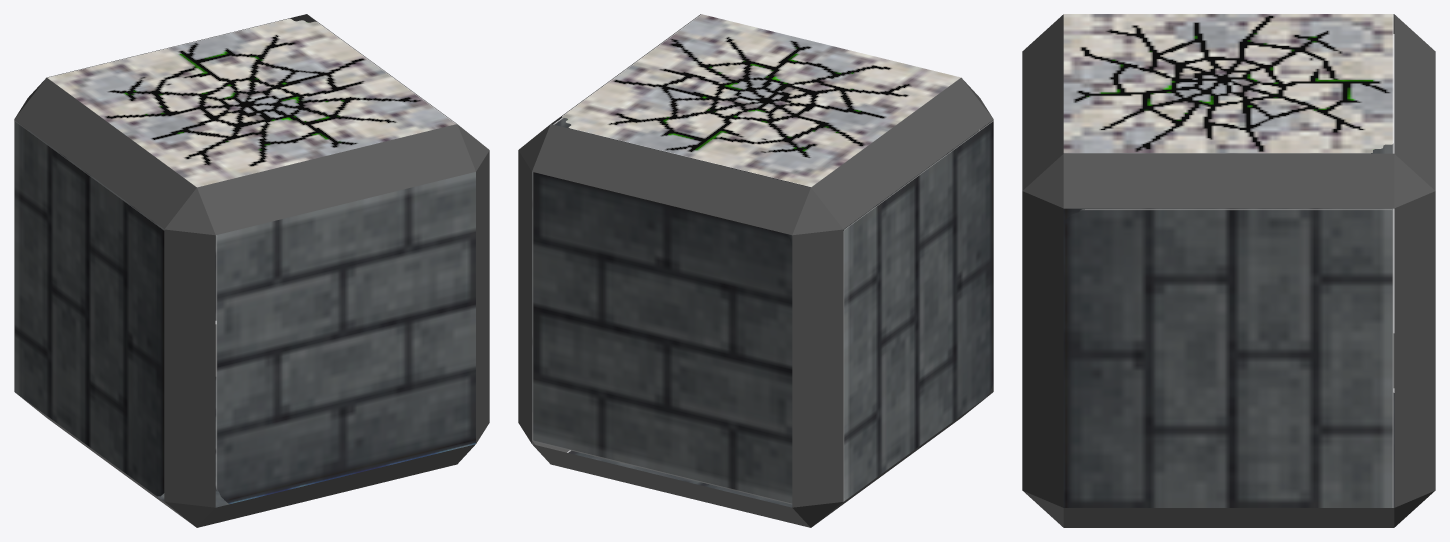
Rendered from Block_PitFall.fbx.
3 renders of one model, left to right at view 1: azimuth 30°, elevation 25°; view 2: azimuth 150°, elevation 25°; view 3: azimuth 270°, elevation 25°, orthographic. The views are drawn at different scales.
Visible parts, largest first — view 1: pCube2; view 2: pCube2; view 3: pCube2.
Part boxes in pixels (x1,y1,x2,y2): pCube2: (14,14,489,527); pCube2: (518,14,993,527); pCube2: (1022,14,1435,527).
Size of the model in its own units: 1 by 1 by 1.
Materials: 2 (1 with a texture image).
